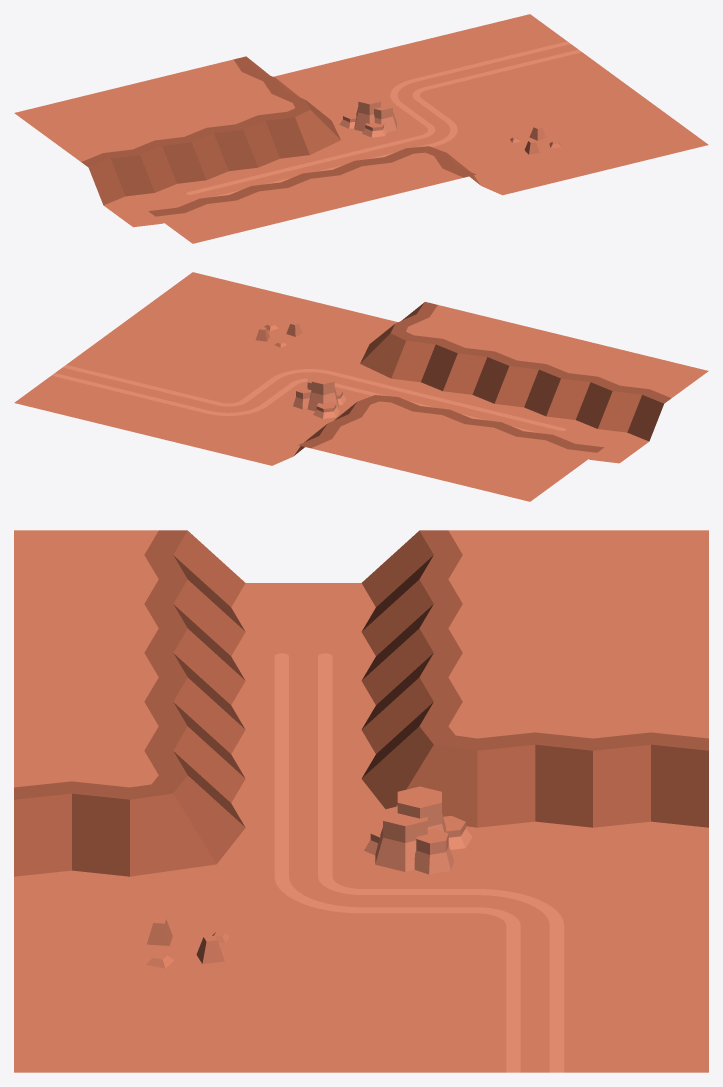
The model's file is terrain.glb.
3 renders of one model, top to bottom at view 1: azimuth 30°, elevation 25°; view 2: azimuth 150°, elevation 25°; view 3: azimuth 270°, elevation 25°, orthographic. The views are drawn at different scales.
Parts seen in each view (by area): view 1: terrain (×35), terrain_sideCliff (×12), terrain_roadStraight (×8), terrain_roadCorner (×2), terrain_sideCorner, rock_largeB, terrain_roadEnd, rocks_smallB; view 2: terrain (×35), terrain_sideCliff (×12), terrain_roadStraight (×8), terrain_roadCorner (×2), terrain_sideCorner, rock_largeB, terrain_roadEnd, rocks_smallB; view 3: terrain (×35), terrain_sideCliff (×12), terrain_roadStraight (×8), terrain_sideCorner (×2), terrain_roadCorner (×2), rock_largeB, terrain_roadEnd, rocks_smallB.
Boxes of the visible parts, x1,y1,x2,y2 form: terrain (×35): (14,14,708,243); terrain_sideCliff (×12): (74,56,501,226); terrain_roadStraight (×8): (207,36,589,195); terrain_roadCorner (×2): (354,74,493,151); terrain_sideCorner: (280,100,360,154); rock_largeB: (339,93,396,137); terrain_roadEnd: (155,180,226,207); rocks_smallB: (510,125,561,154); terrain (×35): (14,272,708,501); terrain_sideCliff (×12): (273,302,678,465); terrain_roadStraight (×8): (44,359,545,431); terrain_roadCorner (×2): (199,353,339,431); terrain_sideCorner: (340,323,420,378); rock_largeB: (293,373,346,418); terrain_roadEnd: (526,416,597,443); rocks_smallB: (255,322,302,347); terrain (×35): (14,530,708,1072); terrain_sideCliff (×12): (14,530,708,876); terrain_roadStraight (×8): (245,681,592,1072); terrain_sideCorner (×2): (130,726,477,876); terrain_roadCorner (×2): (245,876,592,925); rock_largeB: (364,786,472,874); terrain_roadEnd: (245,632,361,680); rocks_smallB: (146,918,229,968).
Size of the model in its own units: 10 by 0.5 by 6.
